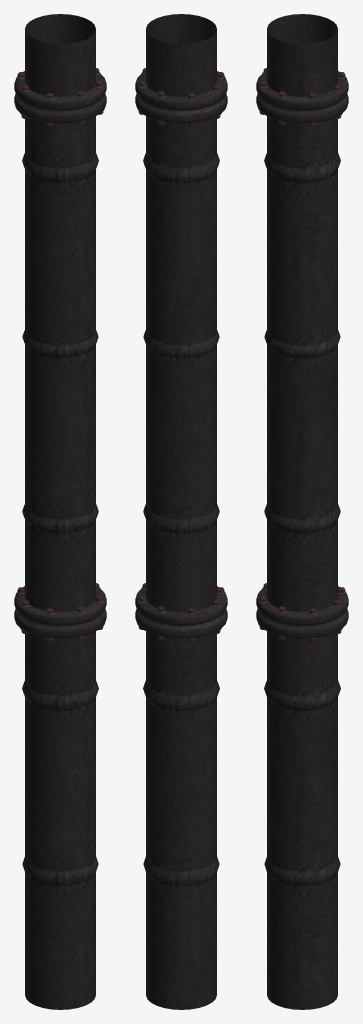
The model's file is pipe_1.obj.
3 renders of one model, left to right at view 1: azimuth 30°, elevation 25°; view 2: azimuth 150°, elevation 25°; view 3: azimuth 330°, elevation 25°, orthographic.
Visible parts, largest first — view 1: pipe_1; view 2: pipe_1; view 3: pipe_1.
Boxes of the visible parts, x1,y1,x2,y2 form: pipe_1: (14, 14, 106, 1009); pipe_1: (135, 14, 227, 1009); pipe_1: (256, 14, 348, 1009).
Bounding box in the file's own units: 0.26 × 3 × 0.26.
